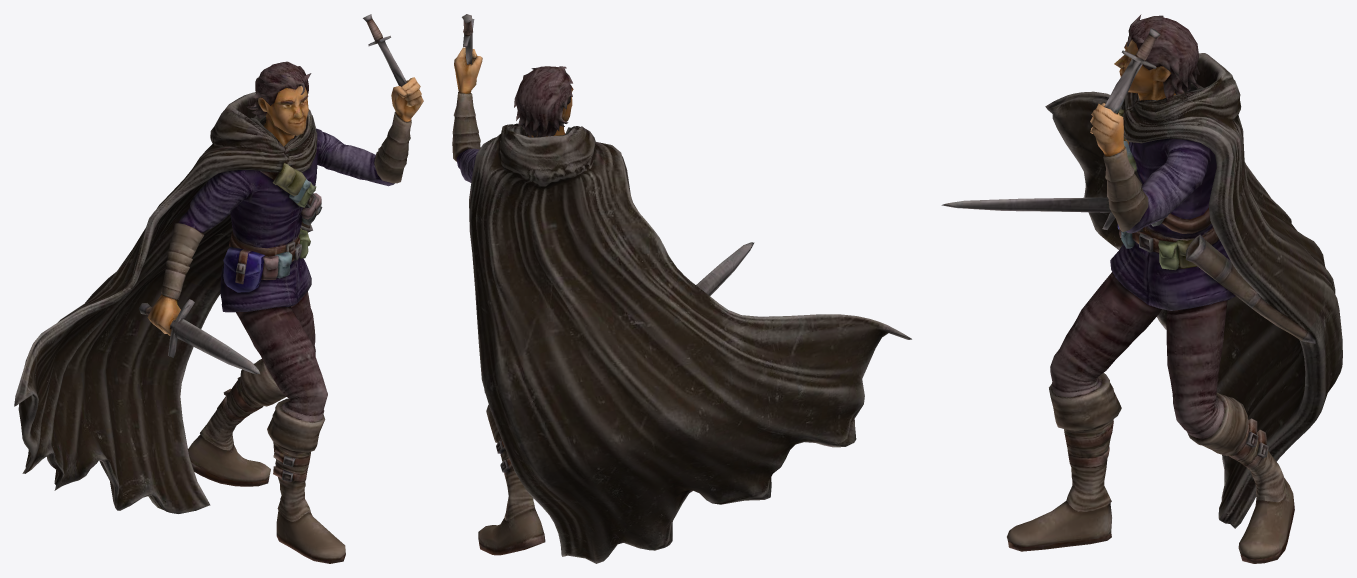
File: MZ4250 - Spy Male 01.glb
3 views of the same model, side by side, from view 1: azimuth 30°, elevation 25°; view 2: azimuth 150°, elevation 25°; view 3: azimuth 270°, elevation 25° (orthographic). The views are drawn at different scales.
Visible parts, largest first — view 1: SpyMale01; view 2: SpyMale01; view 3: SpyMale01.
Boxes of the visible parts, x1,y1,x2,y2 form: SpyMale01: (14, 14, 423, 563); SpyMale01: (452, 14, 911, 563); SpyMale01: (941, 14, 1342, 563).
Size of the model in its own units: 0.9795 by 1.05 by 0.6668.
1 material, 1 textured.
